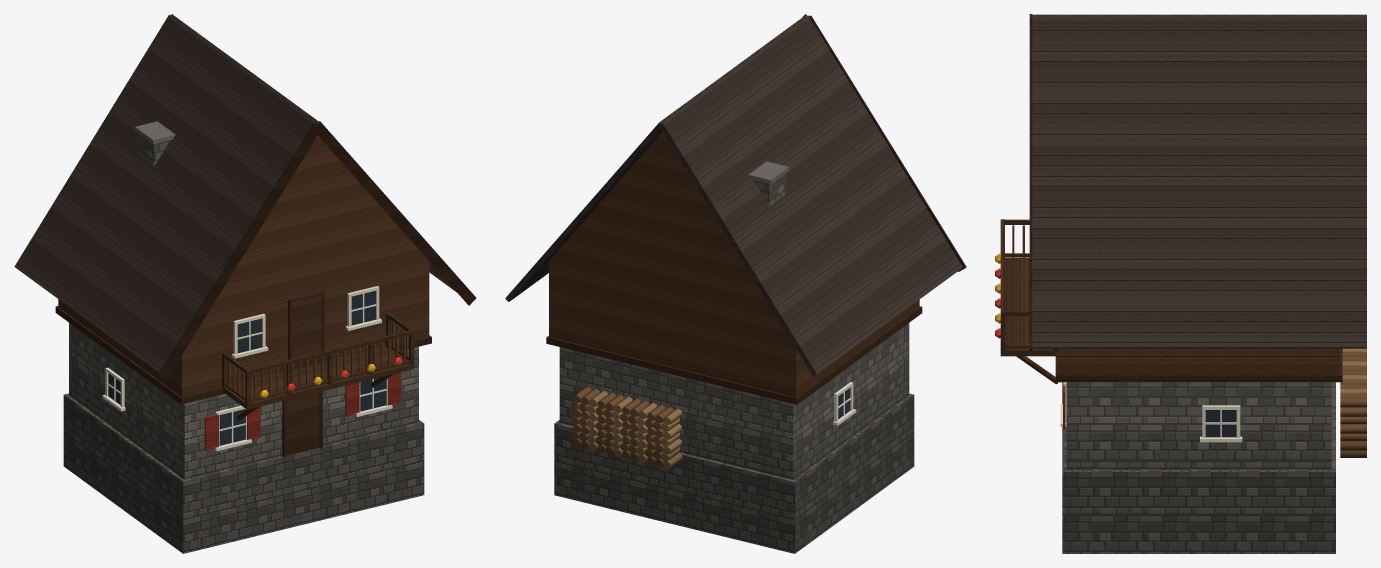
Rendered from cabana_alpina.glb.
The picture shows the model from 3 angles, left to right: view 1: azimuth 30°, elevation 25°; view 2: azimuth 150°, elevation 25°; view 3: azimuth 270°, elevation 25°; orthographic projection. The views are drawn at different scales.
Visible parts, largest first — view 1: cabana_alpina_madeira, cabana_alpina; view 2: cabana_alpina_madeira, cabana_alpina; view 3: cabana_alpina_madeira, cabana_alpina.
Boxes of the visible parts, left/top/right/bottom form: cabana_alpina_madeira: left=14, top=14, right=476, bottom=455; cabana_alpina: left=63, top=121, right=424, bottom=553; cabana_alpina_madeira: left=505, top=14, right=966, bottom=404; cabana_alpina: left=554, top=161, right=914, bottom=553; cabana_alpina_madeira: left=1000, top=14, right=1366, bottom=430; cabana_alpina: left=995, top=225, right=1366, bottom=553.
Size of the model in its own units: 9.48 by 11.79 by 8.42.
Materials: 3 (2 with a texture image).
